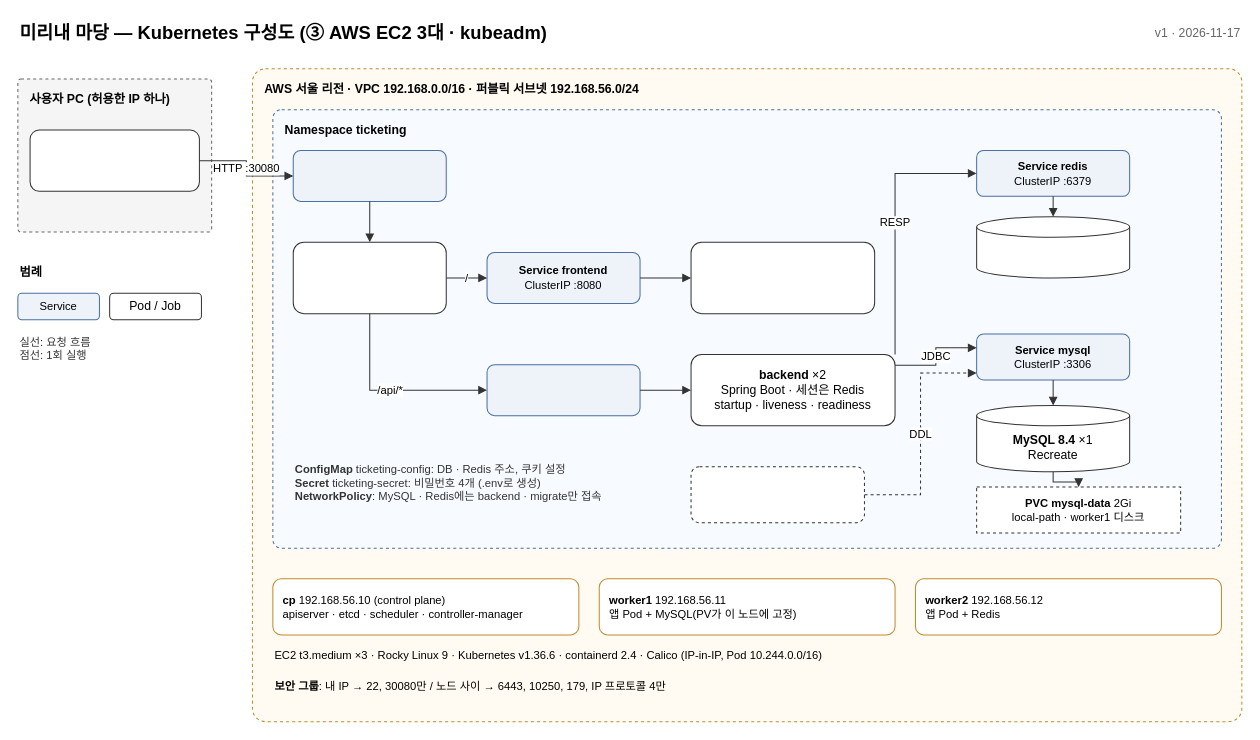
Some shapes in this 1260 by 740 pixel diagram are drawn without their labels. Here are the shapes that lost their labels. From the top down, the box of each, then its label:
(29, 129, 199, 191): Browser http://노드 공인 IP:30080
(292, 149, 446, 201): Service gateway NodePort 30080
(976, 216, 1130, 278): Redis 7 ×1 볼륨 없음
(292, 241, 446, 314): gateway ×2 nginx-unprivileged ConfigMap nginx.conf
(690, 241, 875, 314): frontend ×2 정적 파일 + nginx
(486, 364, 640, 416): Service backend ClusterIP :8080
(690, 466, 864, 523): migrate Job Flyway + 시드, 1회
